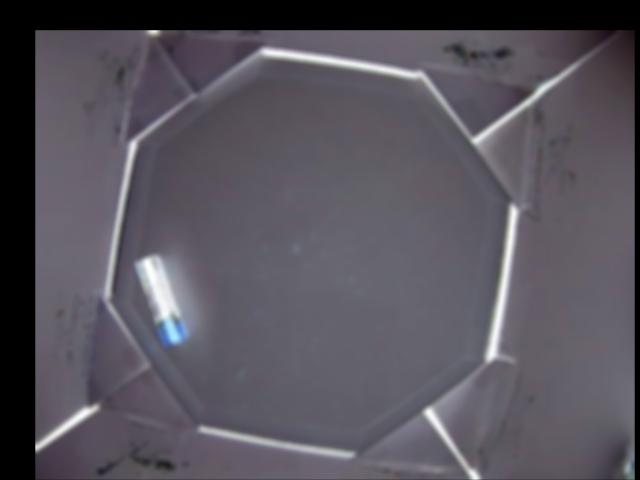Battery: (130, 255, 189, 348)
